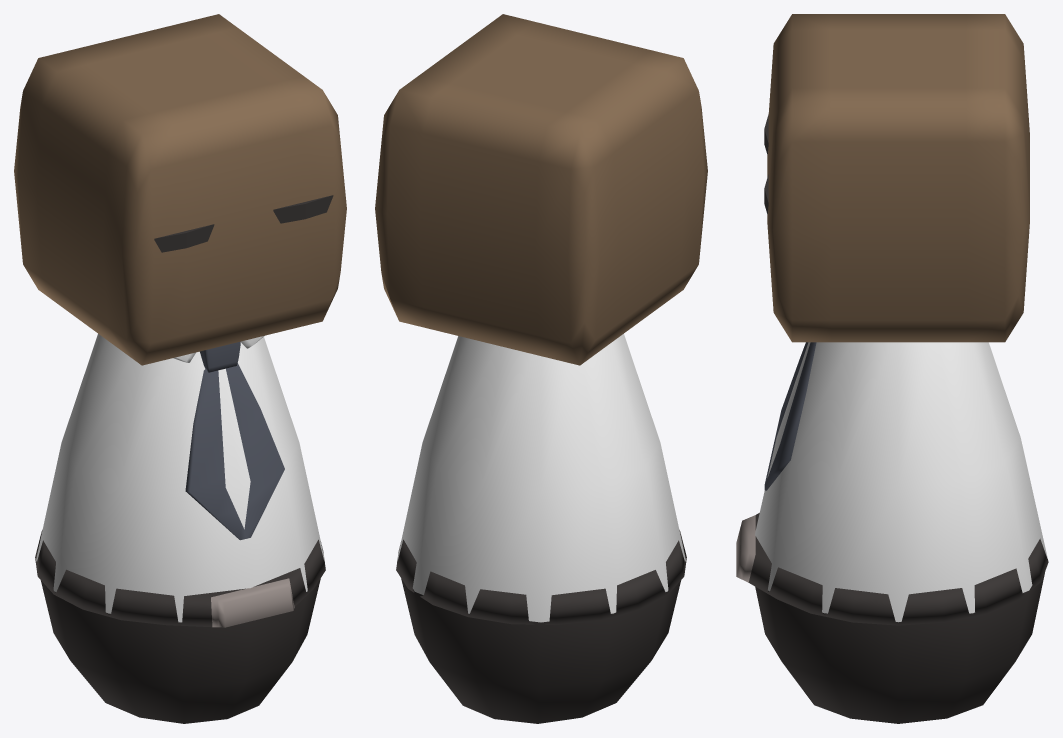
File: SM_character_office_01.fbx
3 views of the same model, side by side, from view 1: azimuth 30°, elevation 25°; view 2: azimuth 150°, elevation 25°; view 3: azimuth 270°, elevation 25° (orthographic). The views are drawn at different scales.
Visible parts, largest first — view 1: pCube1, pCylinder1, pCylinder11, pCube3, pCylinder23, pCylinder24, pCube2; view 2: pCube1, pCylinder1, pCylinder11; view 3: pCube1, pCylinder1, pCylinder11, pCube3.
Part boxes in pixels (box(x1,y1,x2,y2)): pCube1: box(14, 14, 346, 365); pCylinder1: box(36, 334, 324, 723); pCylinder11: box(35, 530, 325, 627); pCube3: box(185, 363, 284, 540); pCylinder23: box(273, 195, 333, 223); pCylinder24: box(154, 224, 214, 252); pCube2: box(200, 341, 240, 372); pCube1: box(375, 14, 707, 365); pCylinder1: box(397, 334, 685, 723); pCylinder11: box(396, 530, 686, 624); pCube1: box(767, 14, 1029, 342); pCylinder1: box(755, 342, 1047, 723); pCylinder11: box(736, 513, 1048, 625); pCube3: box(764, 342, 816, 490).
Bounding box in the file's own units: 22.29 × 51.36 × 23.18.
